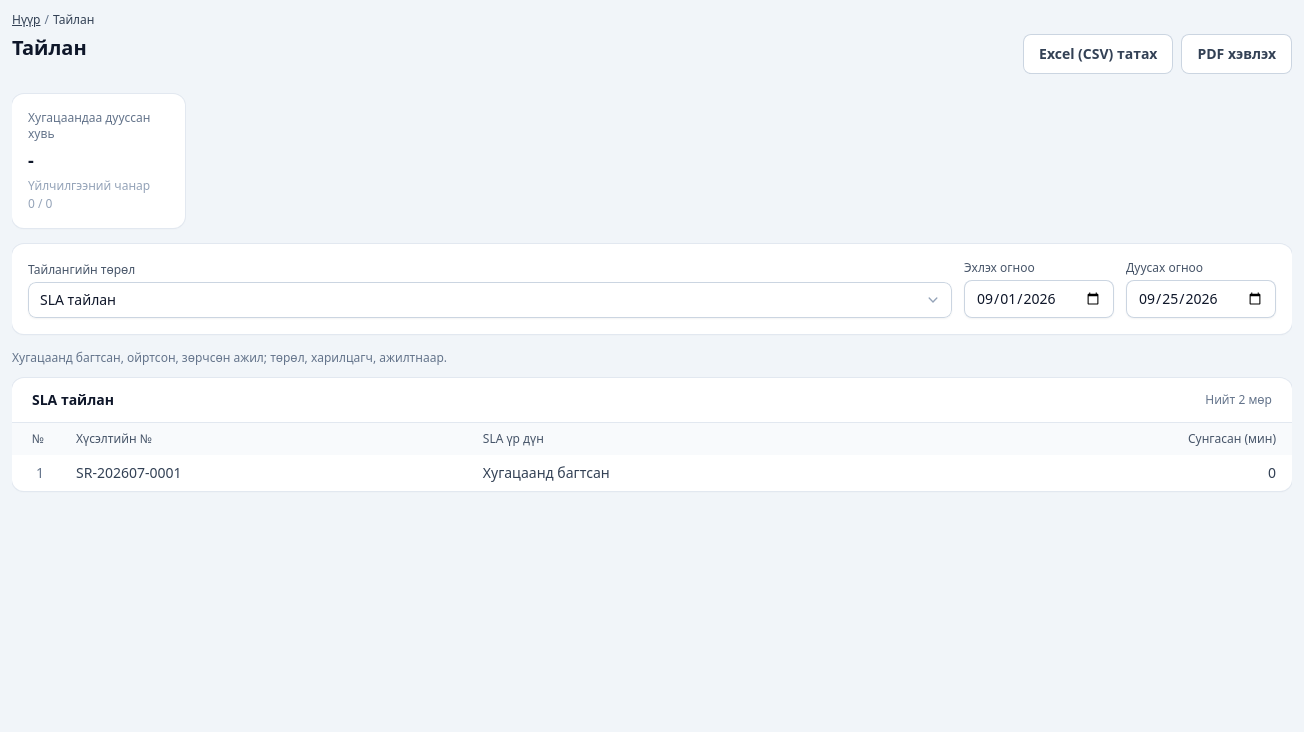
Scenario: ReportsPage › reports a plain success when the export carried the whole report
Click the button "Excel (CSV) татах": click(1098, 54) [1023,34,1173,74]
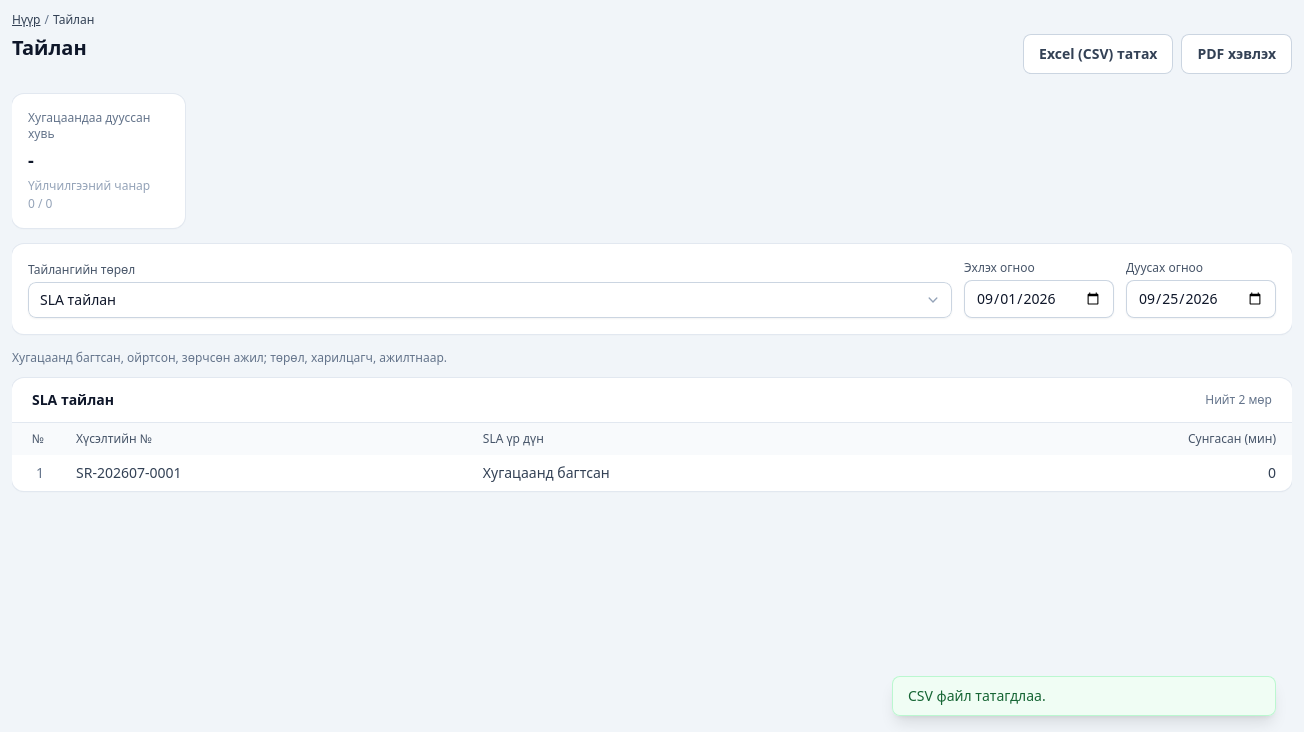
Expected: the text "CSV файл татагдлаа." is shown, [892,676,1276,716]
